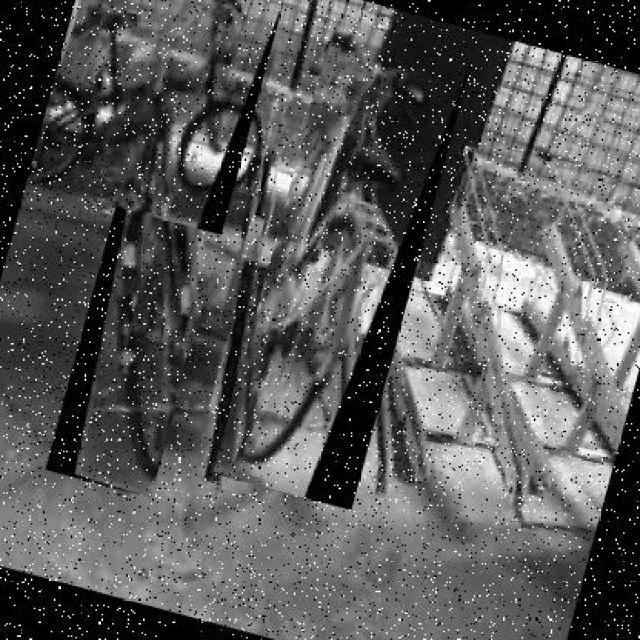bicycle: (212, 19, 474, 513), (43, 20, 271, 500), (29, 1, 288, 238)
